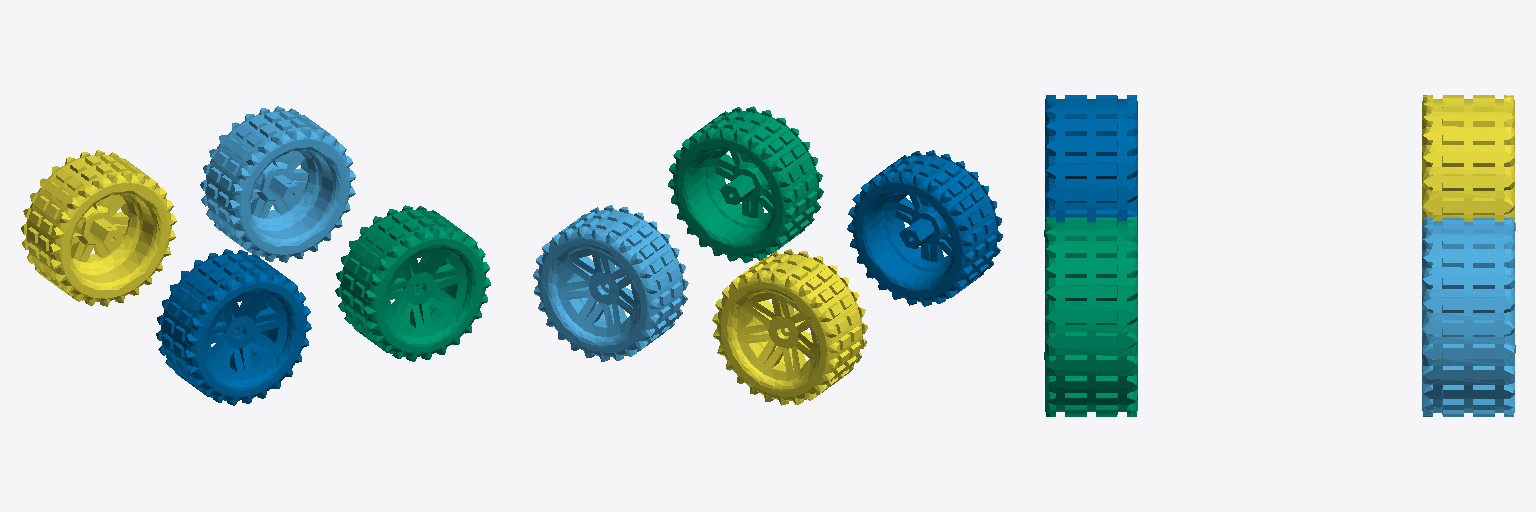
robot.urdf — eduard:
<?xml version="1.0"?>
<robot name="eduard">
  <link name="base_link">
    <visual>
      <geometry>
        <mesh filename="package://edu_robot_control/model/mesh/eduard-chassis.dae"/>
      </geometry>
    </visual>
  </link>

  <link name="wheel_front_left">
    <visual>
      <origin rpy="1.570796327 0 0" xyz="0.125 0.163 0.02"/>
      <geometry>
        <mesh filename="package://edu_robot_control/model/mesh/offroad-wheel-eduard.dae"/>
      </geometry>
    </visual>
  </link>

  <joint name="base_to_wheel_front_left" type="fixed">
    <parent link="base_link"/>
    <child link="wheel_front_left"/>
  </joint>

  <link name="wheel_front_right">
    <visual>
      <origin rpy="-1.570796327 0 0" xyz="0.125 -0.163 0.02"/>
      <geometry>
        <mesh filename="package://edu_robot_control/model/mesh/offroad-wheel-eduard.dae"/>
      </geometry>
    </visual>
  </link>

  <joint name="base_to_wheel_front_right" type="fixed">
    <parent link="base_link"/>
    <child link="wheel_front_right"/>
  </joint>

  <link name="wheel_rear_left">
    <visual>
      <origin rpy="1.570796327 0 0" xyz="-0.125 0.163 0.02"/>
      <geometry>
        <mesh filename="package://edu_robot_control/model/mesh/offroad-wheel-eduard.dae"/>
      </geometry>
    </visual>
  </link>

  <joint name="base_to_wheel_rear_left" type="fixed">
    <parent link="base_link"/>
    <child link="wheel_rear_left"/>
  </joint>

  <link name="wheel_rear_right">
    <visual>
      <origin rpy="-1.570796327 0 0" xyz="-0.125 -0.163 0.02"/>
      <geometry>
        <mesh filename="package://edu_robot_control/model/mesh/offroad-wheel-eduard.dae"/>
      </geometry>
    </visual>
  </link>

  <joint name="base_to_wheel_rear_right" type="fixed">
    <parent link="base_link"/>
    <child link="wheel_rear_right"/>
  </joint>
</robot>

--- What the picture shows (computed from the rendered views, not written in the file) ---
The picture shows the robot from 3 angles, left to right: view 1: azimuth 30°, elevation 25°; view 2: azimuth 150°, elevation 25°; view 3: azimuth 270°, elevation 25°; orthographic projection.
Robot: eduard — 5 links, 4 joints (4 fixed); root link base_link; default pose: every joint at zero.
Links seen in each view (by area): view 1: wheel_front_right, wheel_rear_left, wheel_rear_right, wheel_front_left; view 2: wheel_rear_left, wheel_front_right, wheel_front_left, wheel_rear_right; view 3: wheel_front_left, wheel_front_right, wheel_rear_left, wheel_rear_right.
Link boxes in pixels (left/top/right/bottom): wheel_front_right: left=335, top=205, right=490, bottom=361; wheel_rear_left: left=21, top=150, right=176, bottom=306; wheel_rear_right: left=156, top=249, right=311, bottom=405; wheel_front_left: left=200, top=106, right=355, bottom=262; wheel_rear_left: left=712, top=249, right=867, bottom=405; wheel_front_right: left=668, top=106, right=823, bottom=262; wheel_front_left: left=533, top=205, right=688, bottom=361; wheel_rear_right: left=847, top=150, right=1002, bottom=306; wheel_front_left: left=1422, top=217, right=1515, bottom=416; wheel_front_right: left=1044, top=217, right=1137, bottom=416; wheel_rear_left: left=1422, top=95, right=1515, bottom=230; wheel_rear_right: left=1044, top=95, right=1137, bottom=236.
Size in the robot's own frame: 0.4233 by 0.4072 by 0.1732 metres.
Meshes: 2 distinct files referenced, 4 mesh visuals loaded (1 Collada DAE); not drawn: 1 (reference not matched to a file when rendering).
